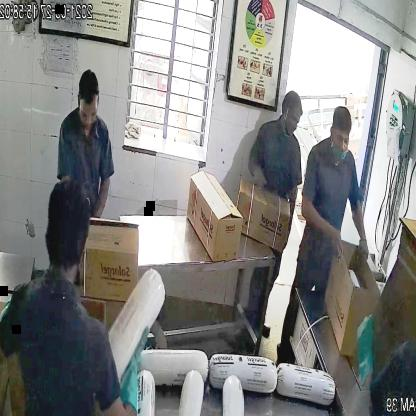no_goggles: (76, 102, 101, 124), (328, 130, 353, 150)
